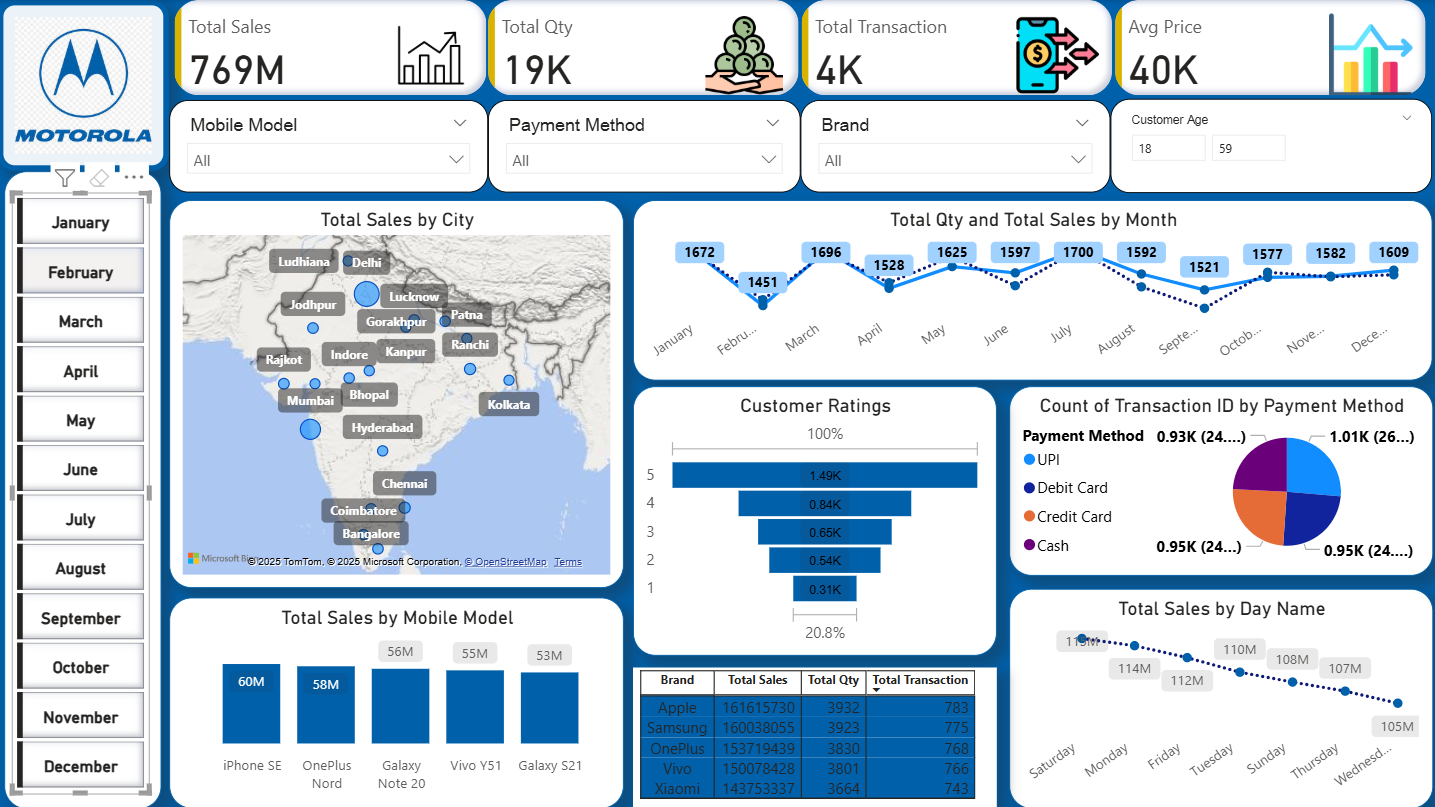

What the dashboard file says about the page in this screenshot:
{"tool":"powerbi","page":{"name":"Page 1","canvas":[1280,720],"ordinal":0},"visuals":[{"type":"image","box":[0,0,152,152],"z":0},{"type":"shape","box":[0,167.4,145.5,540.7],"z":1000},{"type":"advancedSlicerVisual","fields":{"Values":["Sheet1.Custom.Variation.Date Hierarchy.Month"]},"box":[12.3,178.4,120.8,518.7],"z":2000},{"type":"cardVisual","fields":{"Data":["Sales Data.Total Sales","Sales Data.Total Qty","Sales Data.Total Transaction","Sales Data.Avg Price"]},"box":[152.3,0,1125.2,85.1],"z":3000},{"type":"map","fields":{"Category":["Sales Data.City"],"Size":["Sales Data.Total Sales"]},"box":[152.3,178.4,404.8,345.8],"z":4000},{"type":"lineChart","fields":{"Y":["Sales Data.Total Qty"],"Category":["Sales Data.Custom.Variation.Date Hierarchy.Month","Sales Data.Custom.Variation.Date Hierarchy.Day"],"Y2":["Sales Data.Total Sales"]},"box":[565.4,178.4,712.2,160.5],"z":5000},{"type":"columnChart","fields":{"Category":["Sales Data.Mobile Model"],"Y":["Sales Data.Total Sales"]},"box":[152.3,532.4,404.8,188],"z":6000},{"type":"pieChart","fields":{"Y":["CountNonNull(Sales Data.Transaction ID)"],"Category":["Sales Data.Payment Method"]},"box":[900.2,344.4,377.4,168.8],"z":7000},{"type":"funnel","title":"Customer Ratings ","fields":{"Category":["Sales Data.Customer Ratings"],"Y":["CountNonNull(Sales Data.Customer Ratings)"]},"box":[565.4,344.4,323.8,240.1],"z":8000},{"type":"lineChart","fields":{"Category":["Sales Data.Day Name"],"Y":["Sales Data.Total Sales"]},"box":[900.2,524.2,377.4,196.2],"z":9000},{"type":"tableEx","fields":{"Values":["Sales Data.Brand","Sales Data.Total Sales","Sales Data.Total Qty","Sales Data.Total Transaction"]},"box":[565.4,594.2,323.8,126.2],"z":10000},{"type":"slicer","fields":{"Values":["Sales Data.Mobile Model"]},"box":[152.3,89.2,284,82.3],"z":11000},{"type":"slicer","fields":{"Values":["Sales Data.Payment Method"]},"box":[436.4,89.2,278.6,82.3],"z":12000},{"type":"slicer","fields":{"Values":["Sales Data.Brand"]},"box":[714.9,89.2,275.8,82.3],"z":13000},{"type":"slicer","fields":{"Values":["Sales Data.Customer Age"]},"box":[990.7,87.8,286.8,83.7],"z":14000}]}

Visuals, with their boxes in screenshot pixels (x1, y1, x2, y2), scaled from the page's 1280x720 canvas onto the 1435x807 screenshot:
image: (0, 0, 170, 170)
shape: (0, 188, 163, 794)
advancedSlicerVisual - Sheet1.Custom.Variation.Date Hierarchy.Month: (14, 200, 149, 781)
cardVisual - Sales Data.Total Sales x Sales Data.Total Qty: (171, 0, 1432, 95)
map - Sales Data.City x Sales Data.Total Sales: (171, 200, 625, 588)
lineChart - Sales Data.Total Qty x Sales Data.Custom.Variation.Date Hierarchy.Month: (634, 200, 1432, 380)
columnChart - Sales Data.Mobile Model x Sales Data.Total Sales: (171, 597, 625, 806)
pieChart - CountNonNull(Sales Data.Transaction ID) x Sales Data.Payment Method: (1009, 386, 1432, 575)
"Customer Ratings " funnel: (634, 386, 997, 655)
lineChart - Sales Data.Day Name x Sales Data.Total Sales: (1009, 588, 1432, 806)
tableEx - Sales Data.Brand x Sales Data.Total Sales: (634, 666, 997, 806)
slicer - Sales Data.Mobile Model: (171, 100, 489, 192)
slicer - Sales Data.Payment Method: (489, 100, 802, 192)
slicer - Sales Data.Brand: (801, 100, 1111, 192)
slicer - Sales Data.Customer Age: (1111, 98, 1432, 192)
